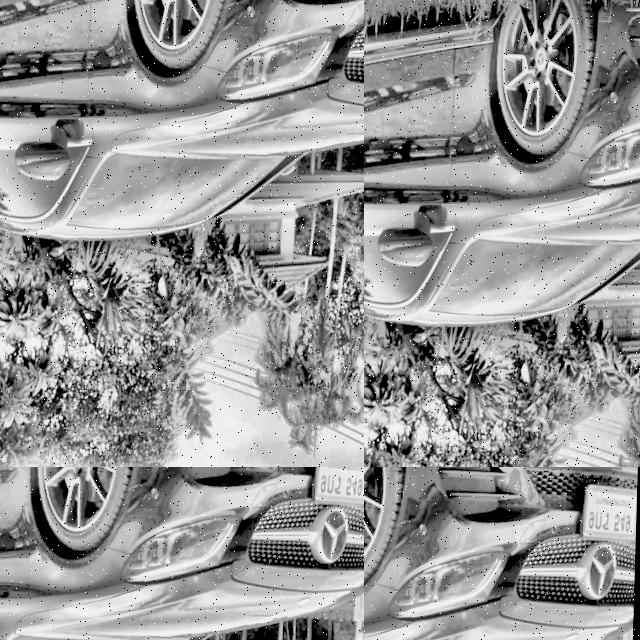license-plate: (490, 220, 579, 284), (22, 467, 165, 491), (581, 485, 638, 543)
